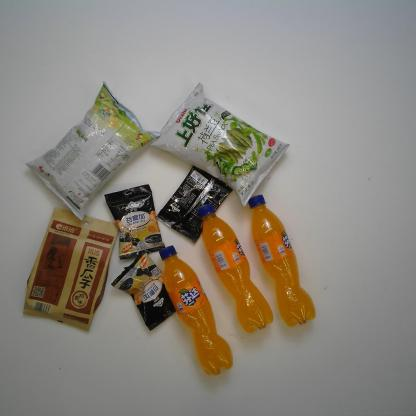Dried Food: (23, 207, 119, 332)
Drink: (197, 202, 274, 334), (159, 244, 233, 377), (248, 194, 316, 328)
Instant Drink: (157, 163, 234, 244), (110, 250, 180, 331), (104, 184, 166, 260)
Puffed Food: (25, 81, 162, 221), (150, 82, 290, 207)
